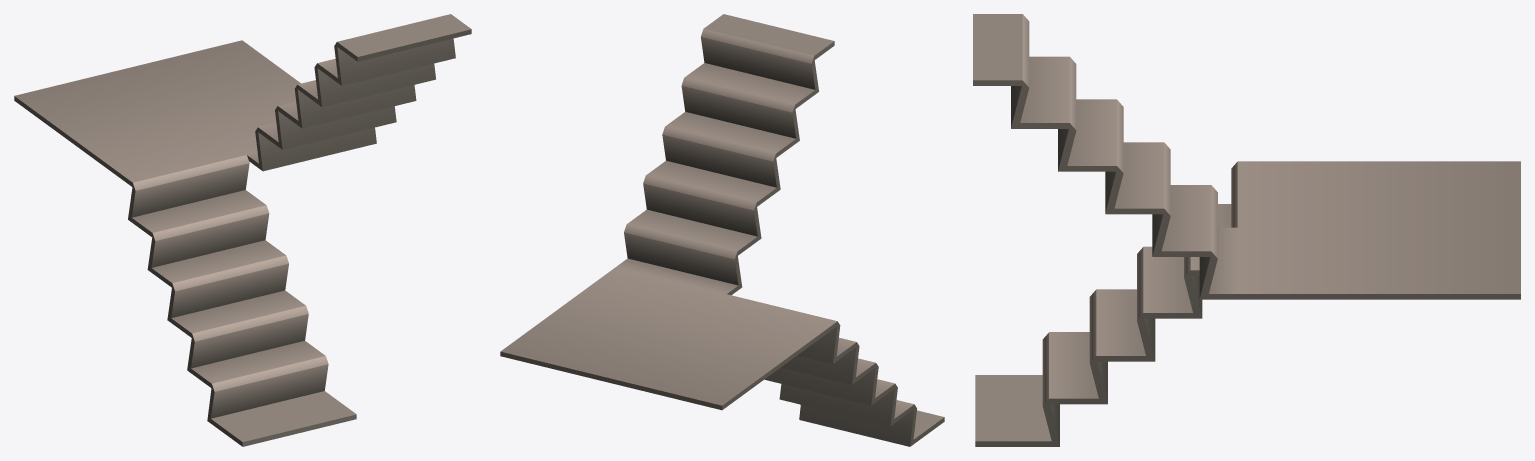
The model's file is TSP_House_Stairs_03A.fbx.
The picture shows the model from 3 angles, left to right: view 1: azimuth 30°, elevation 25°; view 2: azimuth 150°, elevation 25°; view 3: azimuth 270°, elevation 25°; orthographic projection. The views are drawn at different scales.
Visible parts, largest first — view 1: TSP_House_Stairs_03A; view 2: TSP_House_Stairs_03A; view 3: TSP_House_Stairs_03A.
Part boxes in pixels (box(x1,y1,x2,y2)): TSP_House_Stairs_03A: box(14, 14, 471, 446); TSP_House_Stairs_03A: box(500, 14, 944, 446); TSP_House_Stairs_03A: box(973, 14, 1520, 446).
Bounding box in the file's own units: 2 × 3.04 × 3.49.
